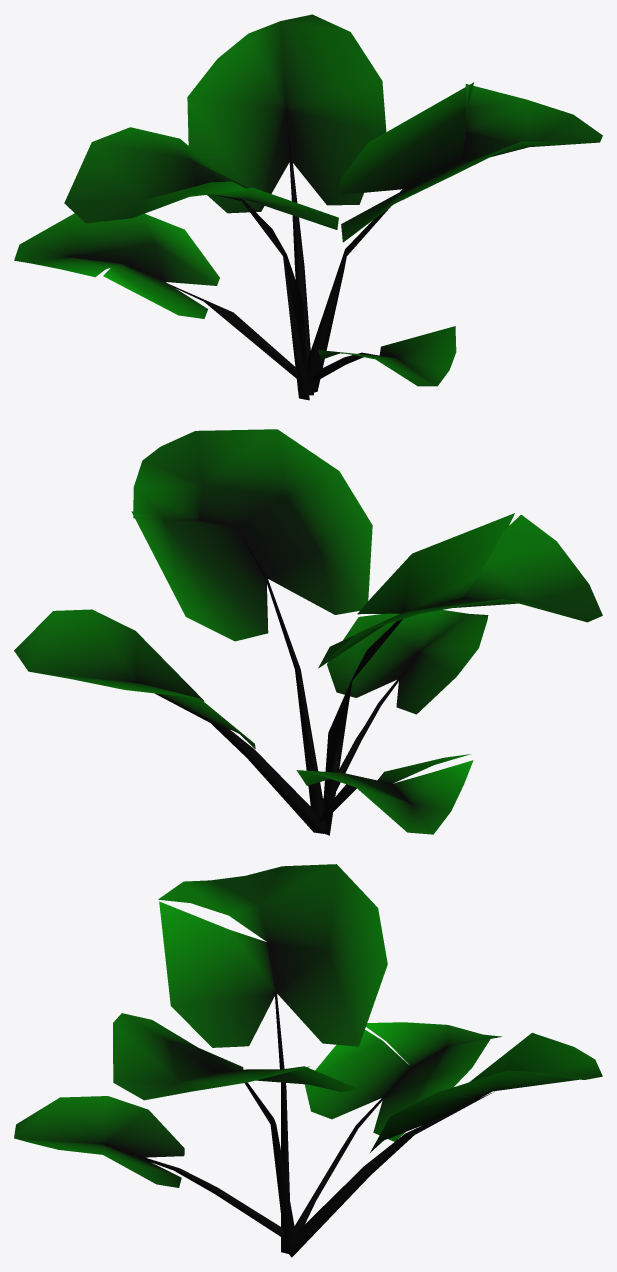
The model's file is Alocasia02_afsTREE_xlprl08_xlod02.fbx.
3 renders of one model, top to bottom at view 1: azimuth 30°, elevation 25°; view 2: azimuth 150°, elevation 25°; view 3: azimuth 270°, elevation 25°, orthographic. The views are drawn at different scales.
Parts seen in each view (by area): view 1: alocasia_xw02_xt03_xlp02_xp06.001, trunk_xw06_xt05_xlp05_xp07, alocasia_xw04_xt05_xlp04, alocasia_xw03_xt04_xlp02_xp10, alocasia_xw02_xt03_xlp02_xp06; view 2: trunk_xw06_xt05_xlp05_xp07, alocasia_xw04_xt05_xlp04, alocasia_xw02_xt03_xlp02_xp06.001, alocasia_xw02_xt03_xlp02_xp06, alocasia_xw03_xt04_xlp02_xp10; view 3: alocasia_xw04_xt05_xlp04, alocasia_xw03_xt04_xlp02_xp10, trunk_xw06_xt05_xlp05_xp07, alocasia_xw02_xt03_xlp02_xp06, alocasia_xw02_xt03_xlp02_xp06.001.
Part boxes in pixels (x1,y1,x2,y2): alocasia_xw02_xt03_xlp02_xp06.001: [187, 14, 386, 395]; trunk_xw06_xt05_xlp05_xp07: [297, 82, 602, 393]; alocasia_xw04_xt05_xlp04: [64, 127, 338, 400]; alocasia_xw03_xt04_xlp02_xp10: [14, 213, 296, 378]; alocasia_xw02_xt03_xlp02_xp06: [311, 326, 456, 386]; trunk_xw06_xt05_xlp05_xp07: [131, 429, 372, 830]; alocasia_xw04_xt05_xlp04: [318, 513, 602, 835]; alocasia_xw02_xt03_xlp02_xp06.001: [14, 609, 324, 833]; alocasia_xw02_xt03_xlp02_xp06: [323, 610, 488, 799]; alocasia_xw03_xt04_xlp02_xp10: [296, 754, 473, 834]; alocasia_xw04_xt05_xlp04: [158, 864, 387, 1253]; alocasia_xw03_xt04_xlp02_xp10: [294, 1022, 501, 1232]; trunk_xw06_xt05_xlp05_xp07: [113, 1013, 359, 1253]; alocasia_xw02_xt03_xlp02_xp06: [14, 1096, 284, 1238]; alocasia_xw02_xt03_xlp02_xp06.001: [283, 1032, 602, 1257].
Size of the model in its own units: 1.62 by 1.71 by 0.9486.
